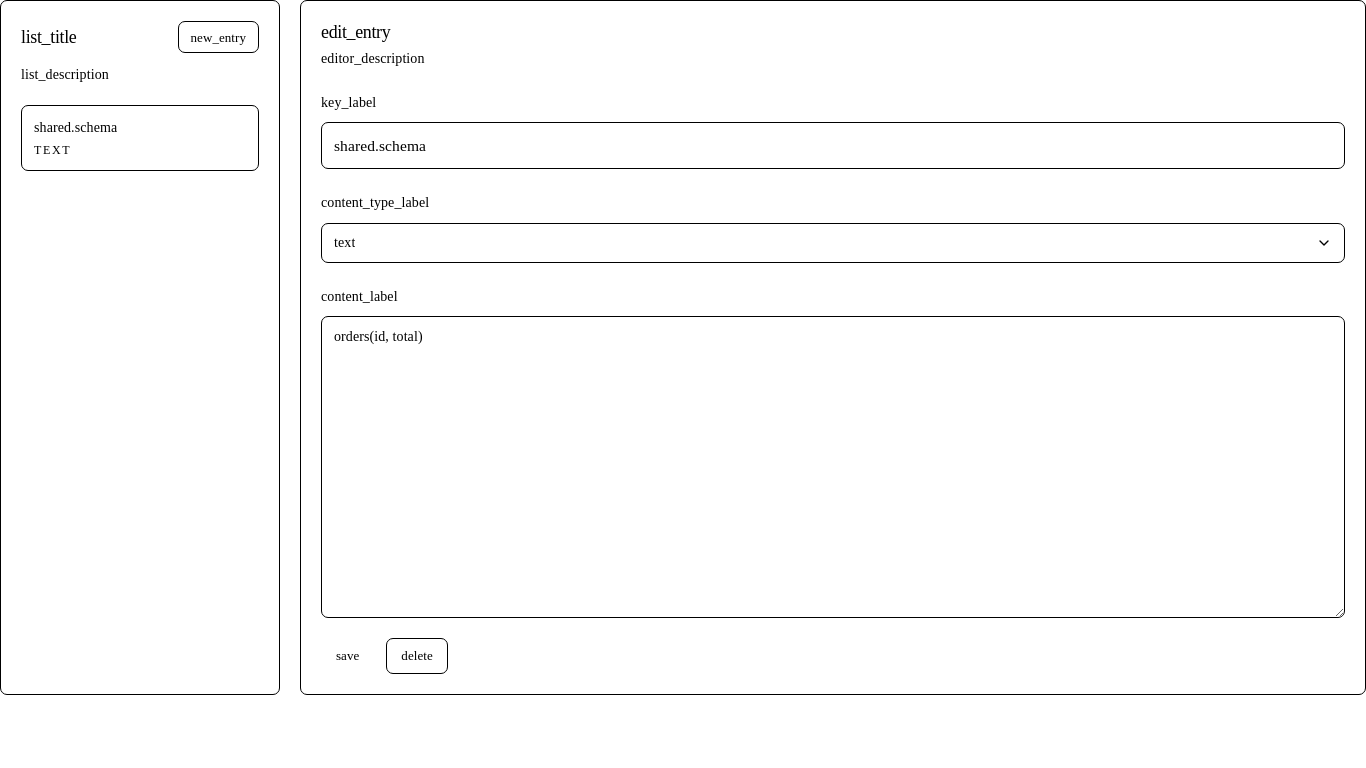
Test: ContextManager › deletes the selected project entry and refreshes the list
Check: the button with test id "context-store__item--shared.schema" is shown, box [21, 105, 259, 171]
Click the button with test id "context-store__delete" at (417, 656), box [386, 638, 448, 674]
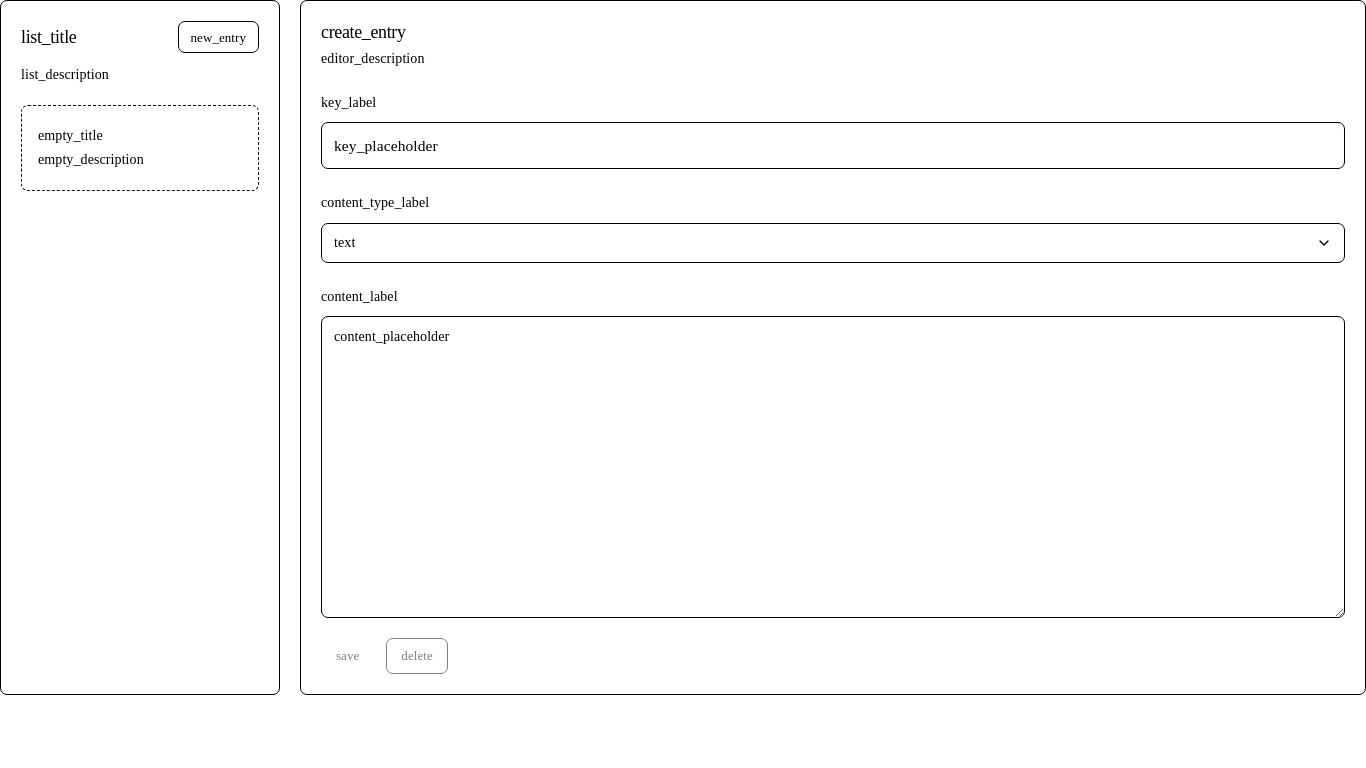
Check: the text "empty_title" is shown, box [38, 128, 103, 143]
